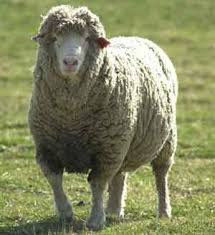koyun: (30, 4, 174, 226)
